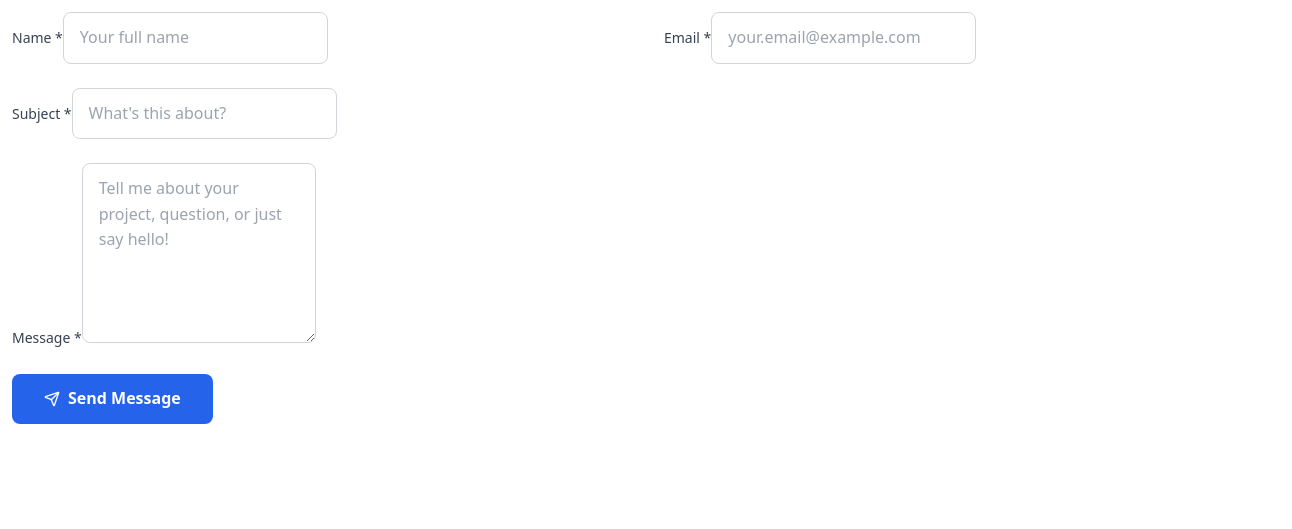
Test: ContactForm › handles API errors gracefully
// Fill out form
Type "John Doe" into the field labelled "Name *".
click(195, 38); type("John Doe")  # box [63,12,328,64]
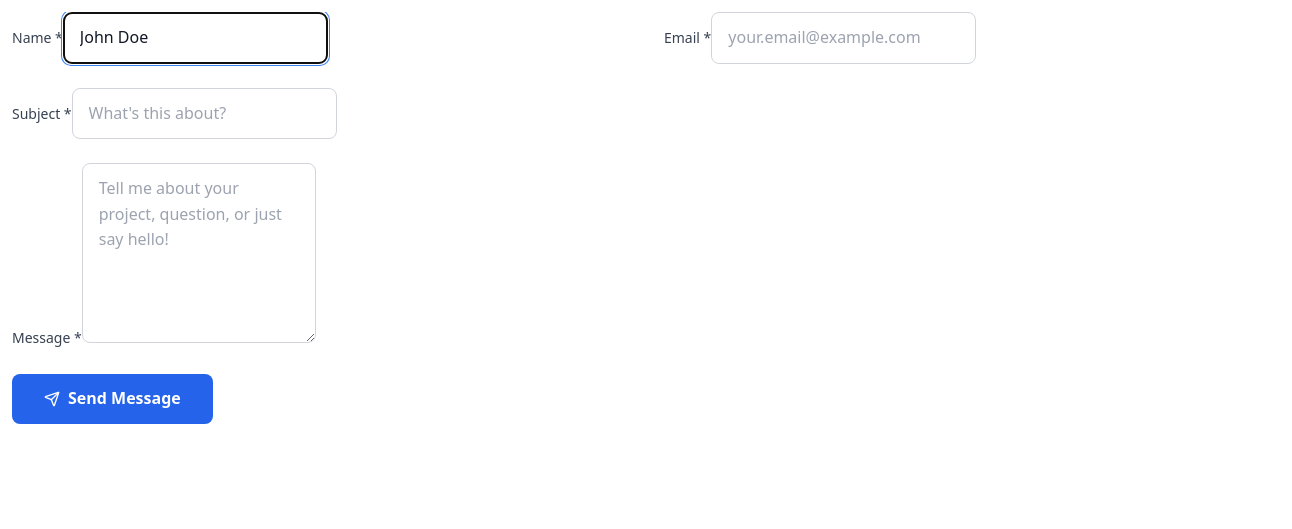
Type "john@example.com" into the field labelled "Email *".
click(844, 38); type("john@example.com")  # box [711,12,976,64]
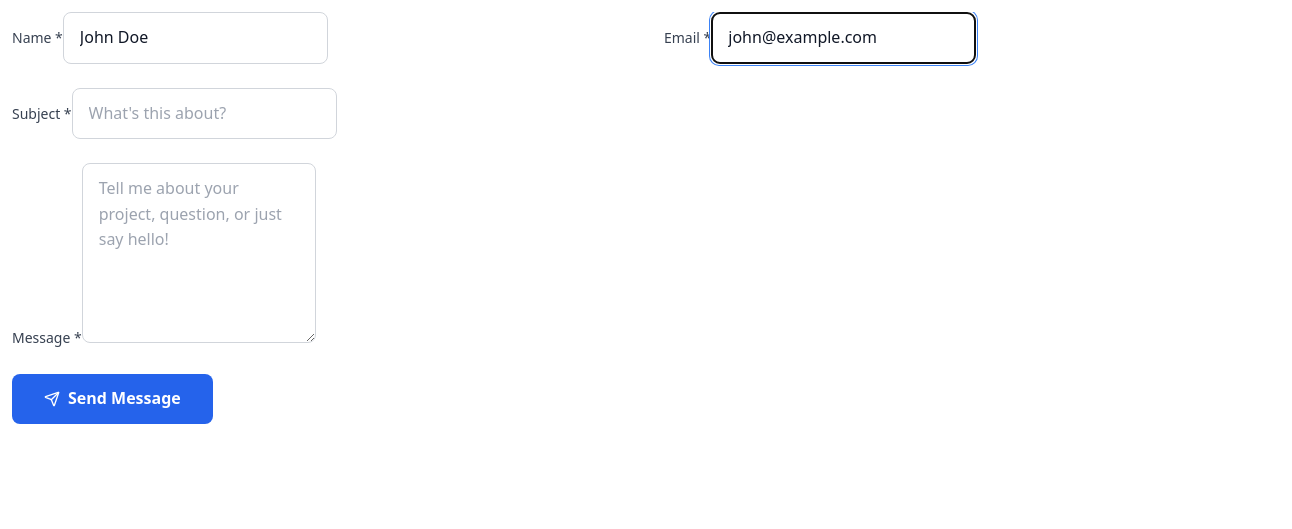
Type "Test Subject" into the field labelled "Subject *".
click(204, 113); type("Test Subject")  # box [72,88,337,139]
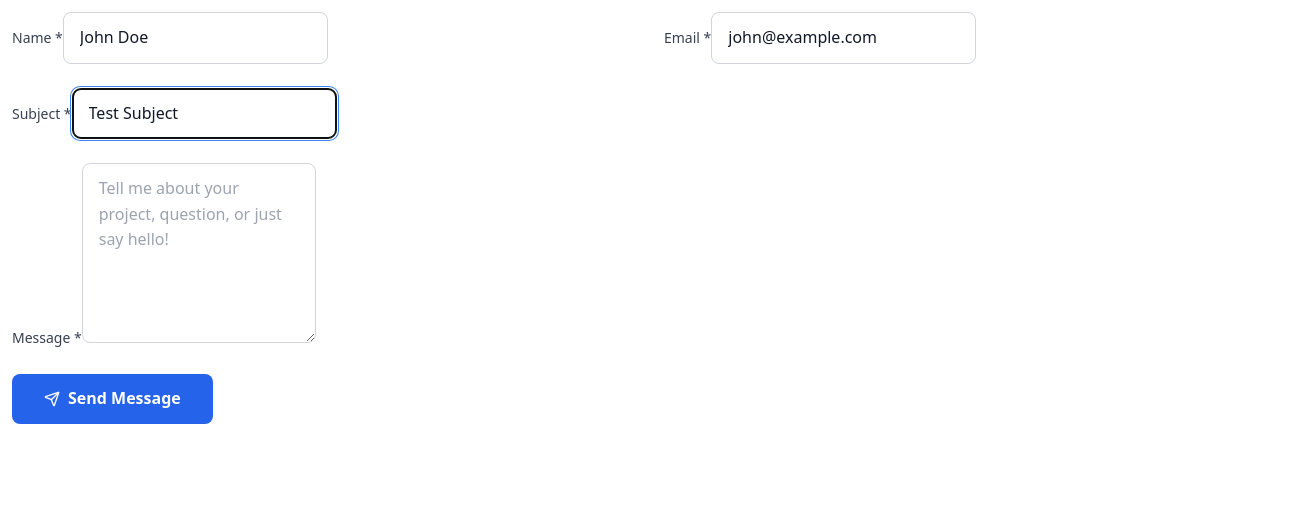
Type "Test message here" into the text box labelled "Message *".
click(199, 253); type("Test message here")  # box [82,163,316,343]
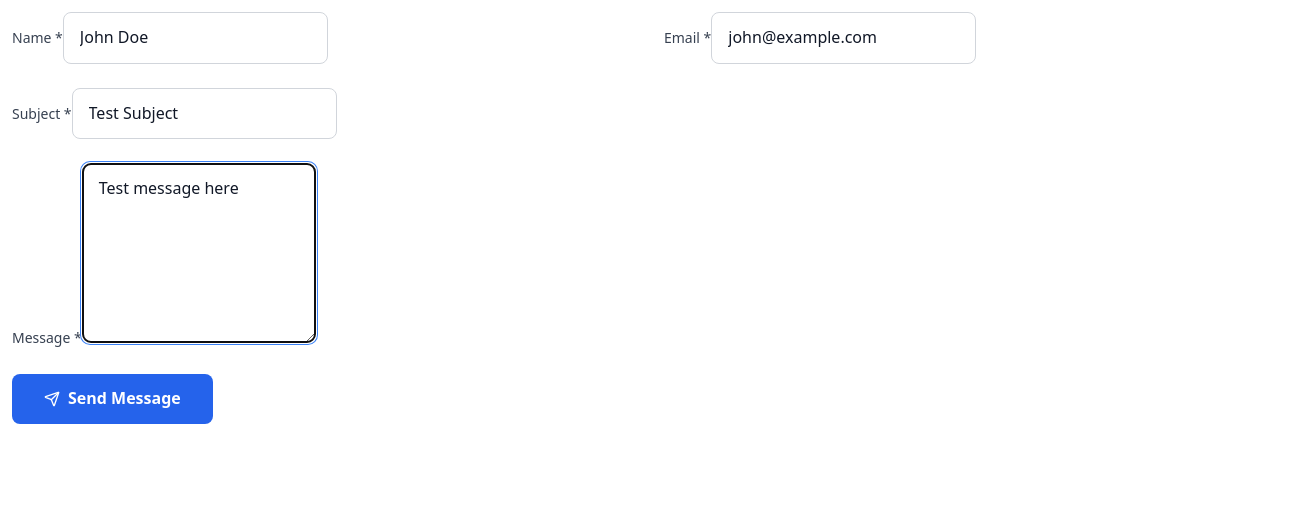
Click the button "Send Message".
click(112, 399)  # box [12,374,213,424]
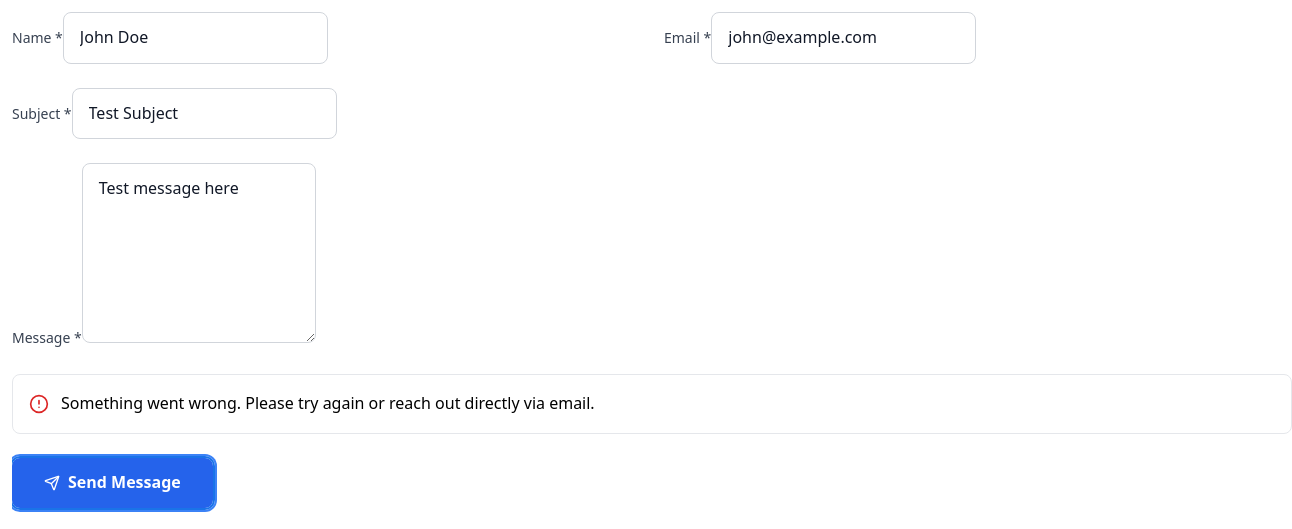
expect the text "Something went wrong" is shown: met, box [61,392,595,414]
